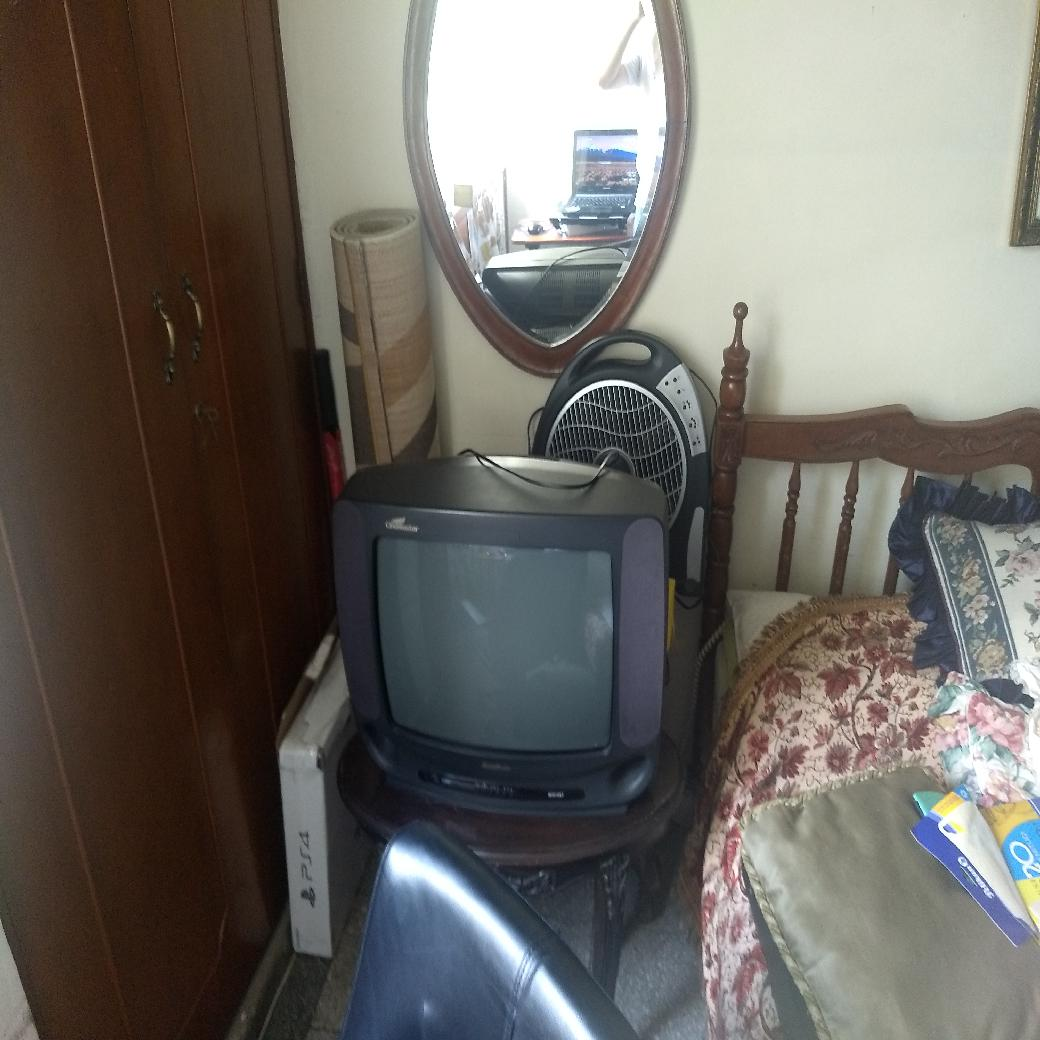tv: (340, 453, 664, 813)
